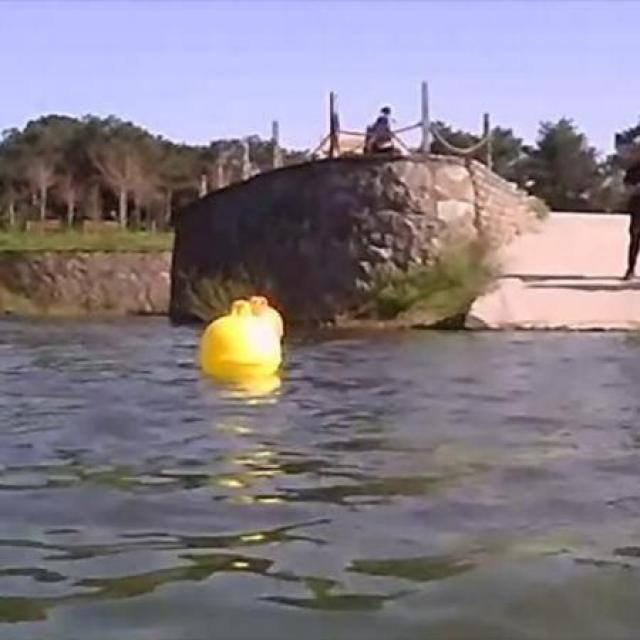buoy: (200, 301, 279, 379)
